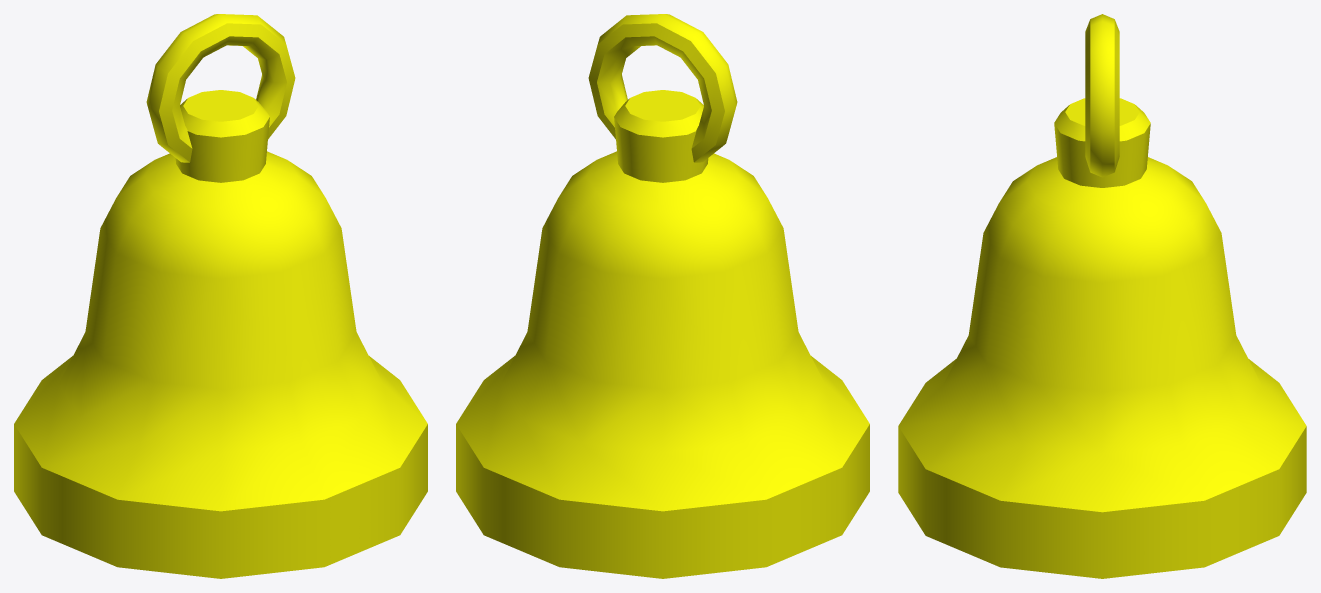
Rendered from kaykit-bell.glb.
The picture shows the model from 3 angles, left to right: view 1: azimuth 30°, elevation 25°; view 2: azimuth 150°, elevation 25°; view 3: azimuth 270°, elevation 25°; orthographic projection.
Parts seen in each view (by area): view 1: bell; view 2: bell; view 3: bell.
Boxes of the visible parts, x1,y1,x2,y2 form: bell: [14, 14, 427, 578]; bell: [456, 14, 869, 578]; bell: [898, 14, 1306, 578].
Size of the model in its own units: 0.806 by 1.1 by 0.806.
